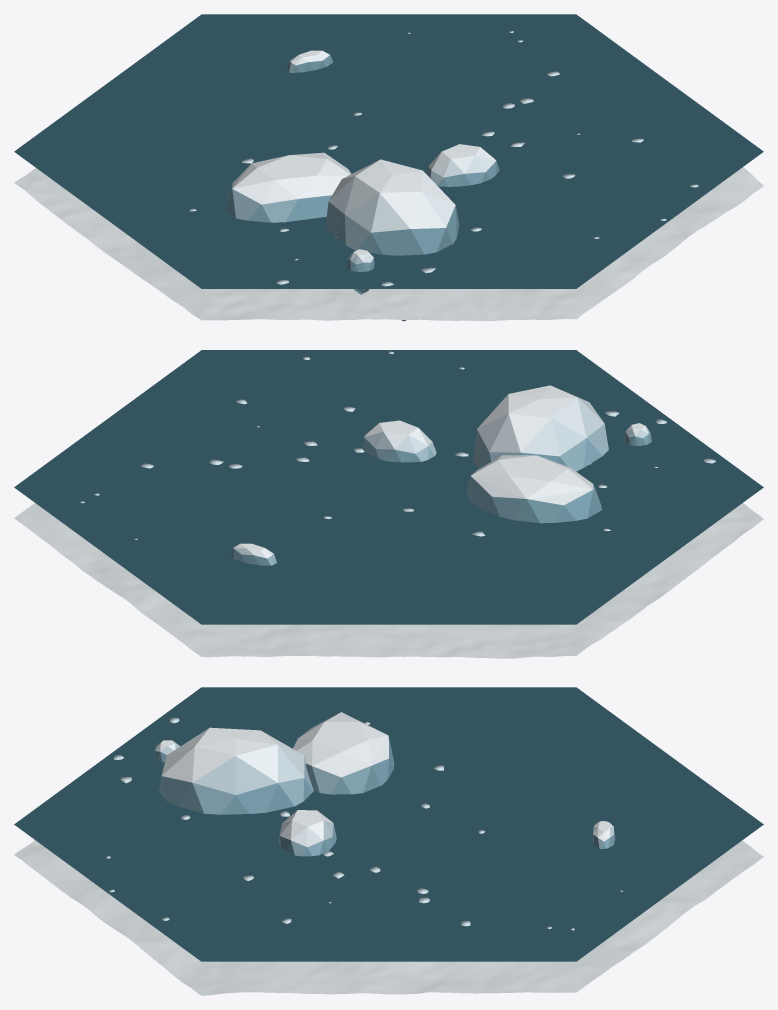
The picture shows the model from 3 angles, top to bottom: view 1: azimuth 30°, elevation 25°; view 2: azimuth 150°, elevation 25°; view 3: azimuth 270°, elevation 25°; orthographic projection.
Visible parts, largest first — view 1: sea_level_0, terrain_v10, WG_19_berg_03, WG_19_berg_00, WG_19_berg_02, WG_19_berg_04, WG_19_berg_01; view 2: sea_level_0, terrain_v10, WG_19_berg_03, WG_19_berg_00, WG_19_berg_02, WG_19_berg_04; view 3: sea_level_0, terrain_v10, WG_19_berg_03, WG_19_berg_00, WG_19_berg_02, WG_19_berg_04.
Boxes of the visible parts, x1=… form: sea_level_0: x1=14, y1=14, x2=763, y2=288; terrain_v10: x1=14, y1=167, x2=763, y2=320; WG_19_berg_03: x1=326, y1=159, x2=459, y2=321; WG_19_berg_00: x1=226, y1=152, x2=351, y2=222; WG_19_berg_02: x1=426, y1=144, x2=499, y2=186; WG_19_berg_04: x1=287, y1=50, x2=333, y2=72; WG_19_berg_01: x1=347, y1=249, x2=374, y2=294; sea_level_0: x1=14, y1=350, x2=763, y2=624; terrain_v10: x1=14, y1=503, x2=763, y2=658; WG_19_berg_03: x1=473, y1=385, x2=608, y2=471; WG_19_berg_00: x1=466, y1=455, x2=602, y2=523; WG_19_berg_02: x1=361, y1=420, x2=436, y2=462; WG_19_berg_04: x1=230, y1=543, x2=276, y2=565; sea_level_0: x1=14, y1=687, x2=763, y2=961; terrain_v10: x1=14, y1=840, x2=763, y2=995; WG_19_berg_03: x1=159, y1=727, x2=313, y2=814; WG_19_berg_00: x1=293, y1=712, x2=394, y2=794; WG_19_berg_02: x1=278, y1=810, x2=336, y2=856; WG_19_berg_04: x1=592, y1=821, x2=615, y2=848.
Size of the model in its own units: 4330 by 990 by 5000.
Materials: 35 (1 with a texture image).
